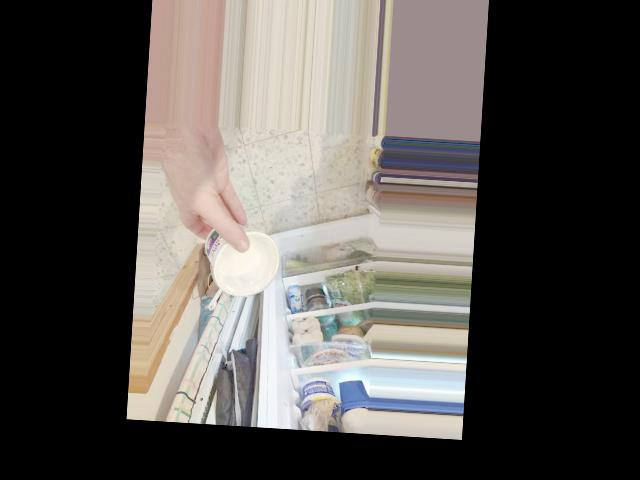cotage: (196, 220, 282, 304)
